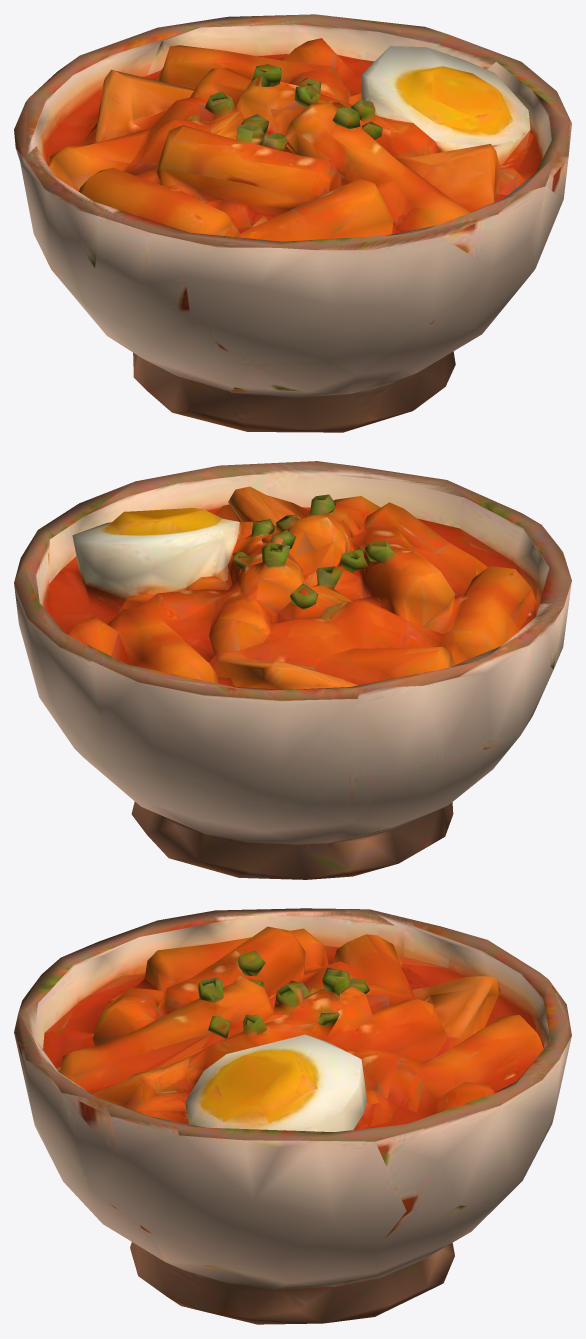
3 renders of one model, top to bottom at view 1: azimuth 30°, elevation 25°; view 2: azimuth 150°, elevation 25°; view 3: azimuth 270°, elevation 25°, orthographic.
Parts seen in each view (by area): view 1: tteokbokki; view 2: tteokbokki; view 3: tteokbokki.
Part boxes in pixels (x1,y1,x2,y2): tteokbokki: (14,14,571,432); tteokbokki: (14,461,571,879); tteokbokki: (14,908,571,1324).
Size of the model in its own units: 0.1799 by 0.1016 by 0.18.
Materials: 1 (1 with a texture image).
